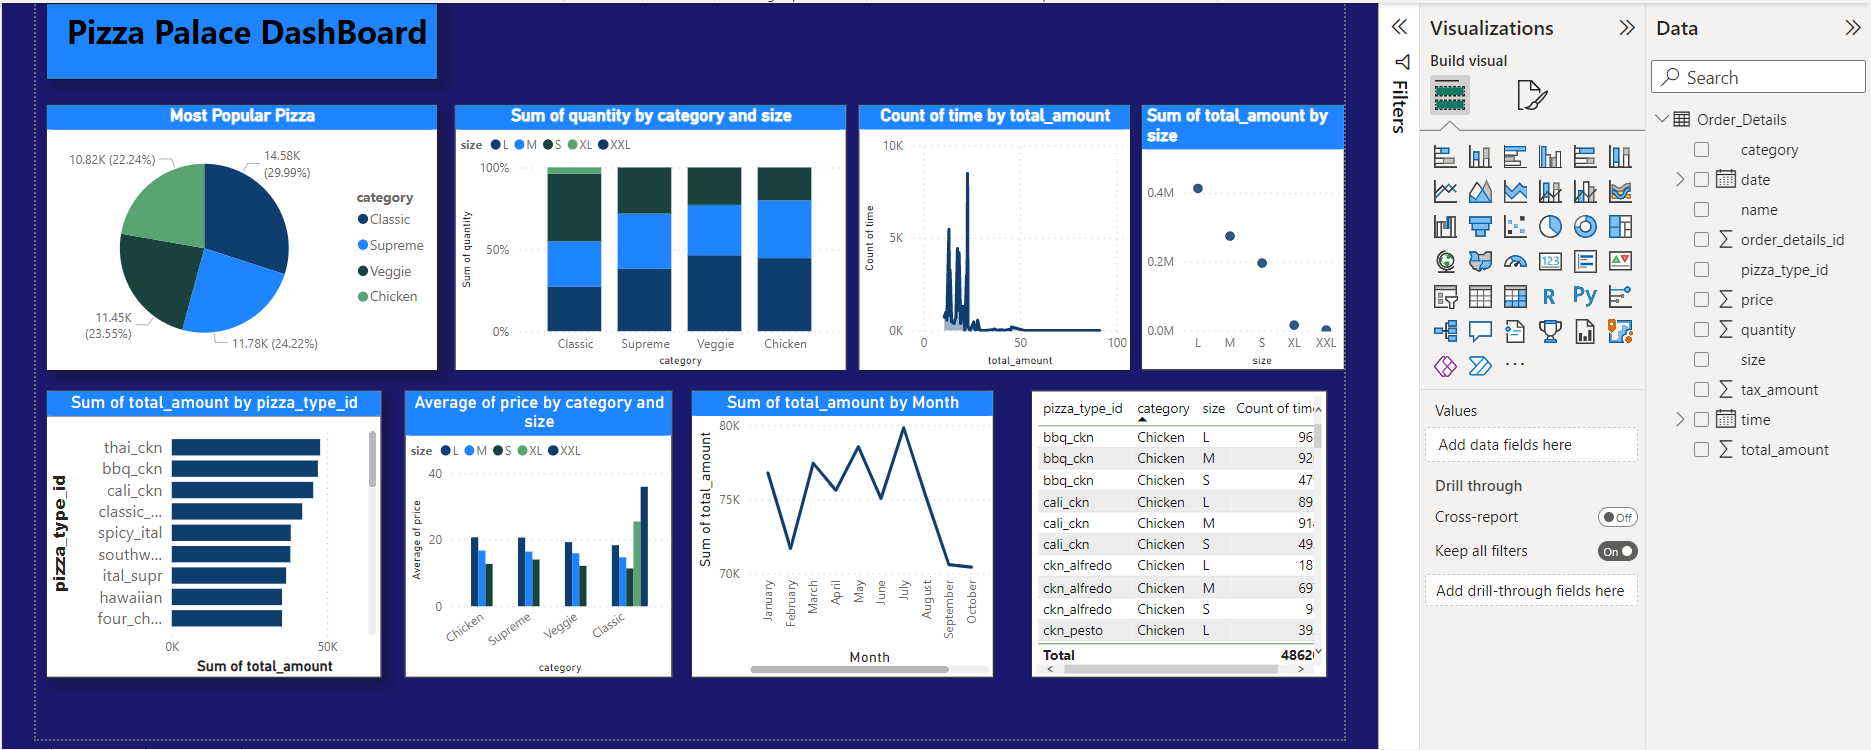

What the dashboard file says about the page in this screenshot:
{"tool":"powerbi","page":{"name":"Page 1","canvas":[1280,720],"ordinal":0},"visuals":[{"type":"textbox","box":[9.6,0,382.8,75.5],"z":0},{"type":"pieChart","title":"Most Popular Pizza","fields":{"Category":["Order_Details.category"],"Y":["CountNonNull(Order_Details.pizza_type_id)"]},"box":[9.6,98.8,382.8,260.7],"z":1},{"type":"hundredPercentStackedColumnChart","fields":{"Y":["Sum(Order_Details.quantity)"],"Category":["Order_Details.category"],"Series":["Order_Details.size"]},"box":[408.9,98.8,382.8,260.7],"z":2},{"type":"areaChart","fields":{"Category":["Order_Details.total_amount"],"Y":["CountNonNull(Order_Details.time)"]},"box":[804.1,98.8,266.2,260.7],"z":3},{"type":"clusteredColumnChart","fields":{"Y":["Avg(Order_Details.price)"],"Category":["Order_Details.category"],"Series":["Order_Details.size"]},"box":[360.6,378.9,261.6,281.2],"z":4},{"type":"lineChart","fields":{"Category":["Order_Details.date.Variation.Date Hierarchy.Month"],"Y":["Sum(Order_Details.total_amount)"]},"box":[640.5,378.9,295.8,281.2],"z":5},{"type":"tableEx","fields":{"Values":["Order_Details.pizza_type_id","Order_Details.category","Order_Details.size","CountNonNull(Order_Details.time)"]},"box":[973,378.9,289.7,281.2],"z":6},{"type":"barChart","fields":{"Category":["Order_Details.pizza_type_id"],"Y":["Sum(Order_Details.total_amount)"]},"box":[9.8,378.9,327.6,281.2],"z":7},{"type":"scatterChart","fields":{"X":["Order_Details.size"],"Y":["Sum(Order_Details.total_amount)"]},"box":[1080.6,99,199.3,260.4],"z":8}]}

Visuals, with their boxes in screenshot pixels (x1, y1, x2, y2):
textbox: locate(39, 0, 433, 73)
"Most Popular Pizza" pieChart: locate(39, 97, 433, 365)
hundredPercentStackedColumnChart - Sum(Order_Details.quantity) x Order_Details.category: locate(449, 97, 843, 365)
areaChart - Order_Details.total_amount x CountNonNull(Order_Details.time): locate(856, 97, 1129, 365)
clusteredColumnChart - Avg(Order_Details.price) x Order_Details.category: locate(400, 385, 669, 674)
lineChart - Order_Details.date.Variation.Date Hierarchy.Month x Sum(Order_Details.total_amount): locate(687, 385, 992, 674)
tableEx - Order_Details.pizza_type_id x Order_Details.category: locate(1029, 385, 1327, 674)
barChart - Order_Details.pizza_type_id x Sum(Order_Details.total_amount): locate(39, 385, 376, 674)
scatterChart - Order_Details.size x Sum(Order_Details.total_amount): locate(1140, 97, 1345, 364)
